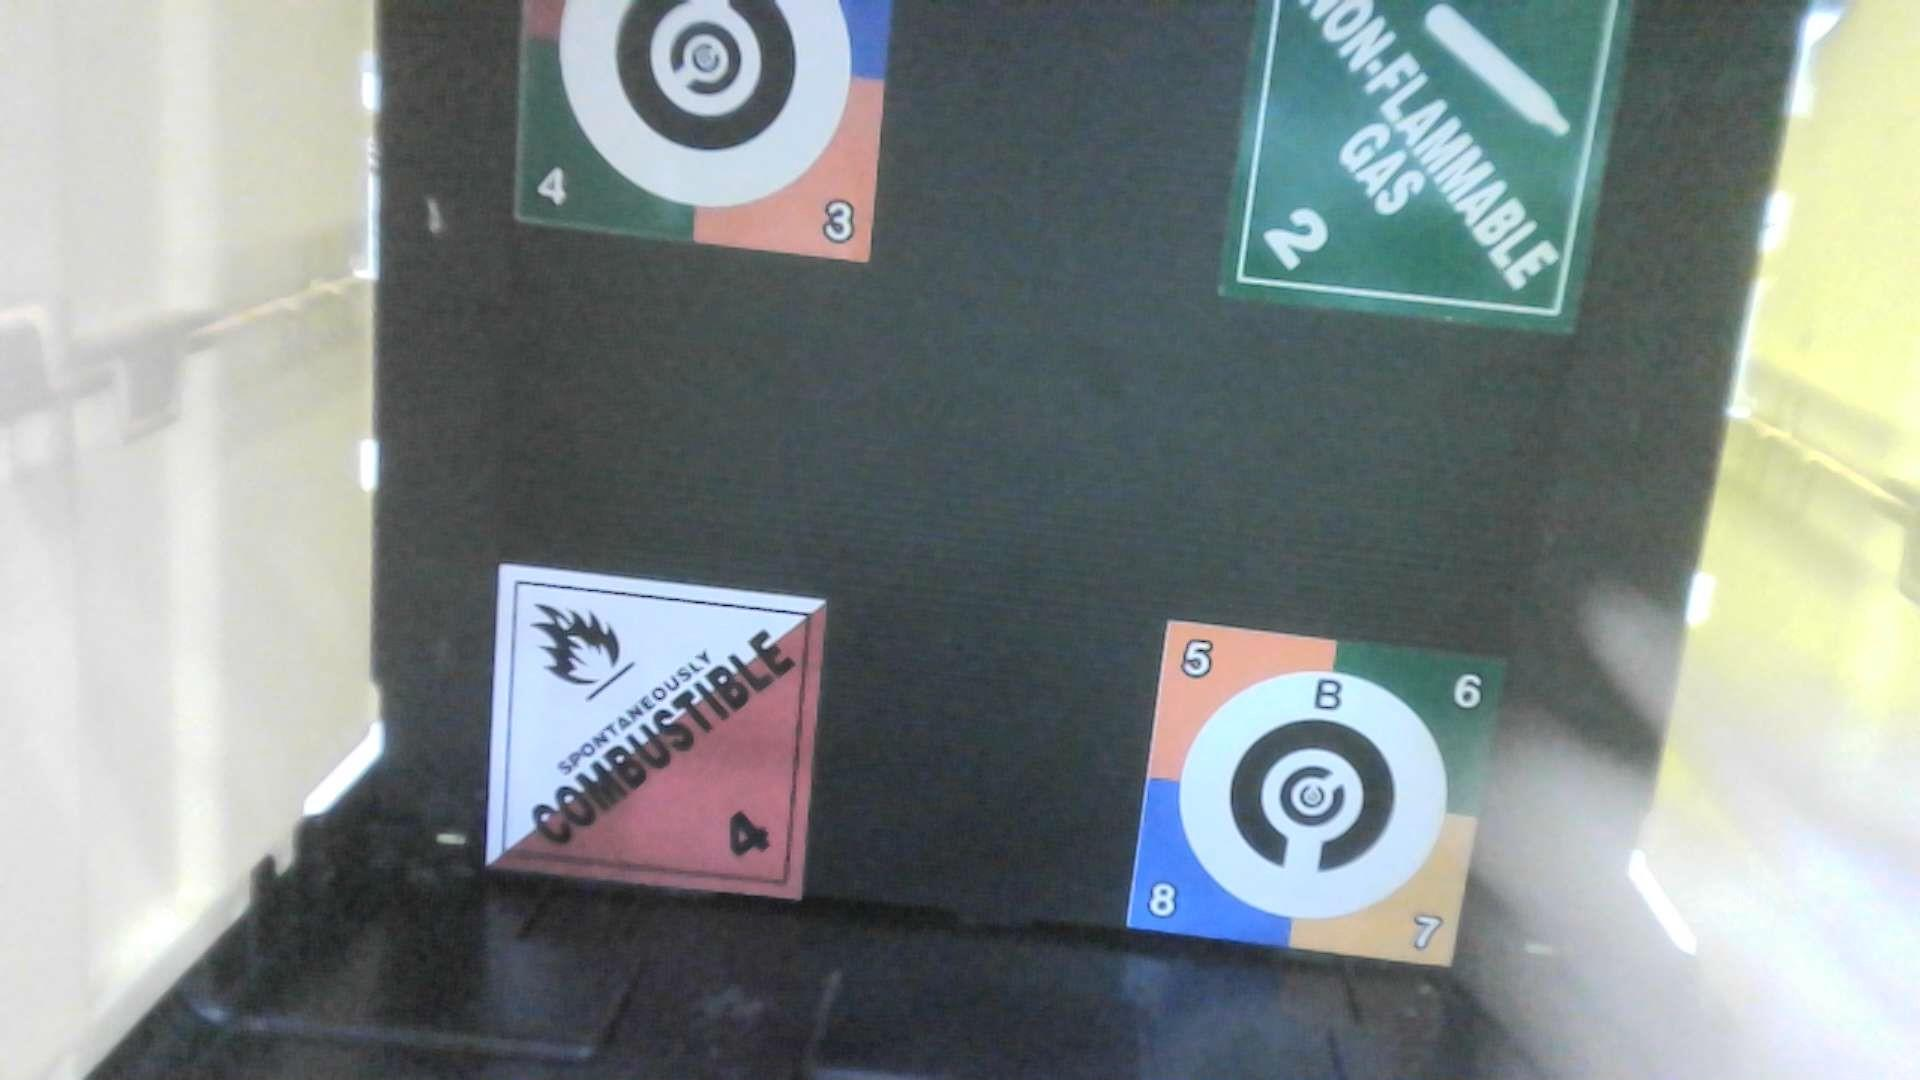non-flammable-gas: (1200, 1, 1640, 343)
spontaneously-combustible: (454, 549, 852, 916)
